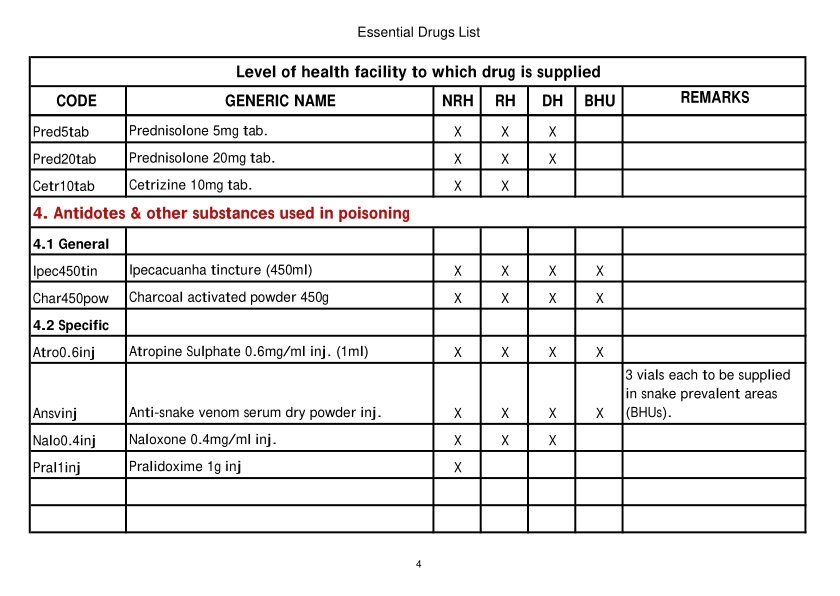merged_cells: (28, 55, 807, 535)
